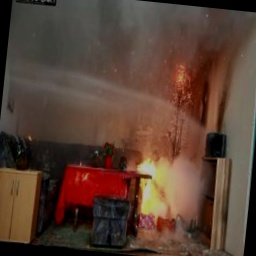fire: (128, 152, 163, 208)
smoke: (160, 150, 215, 234)
